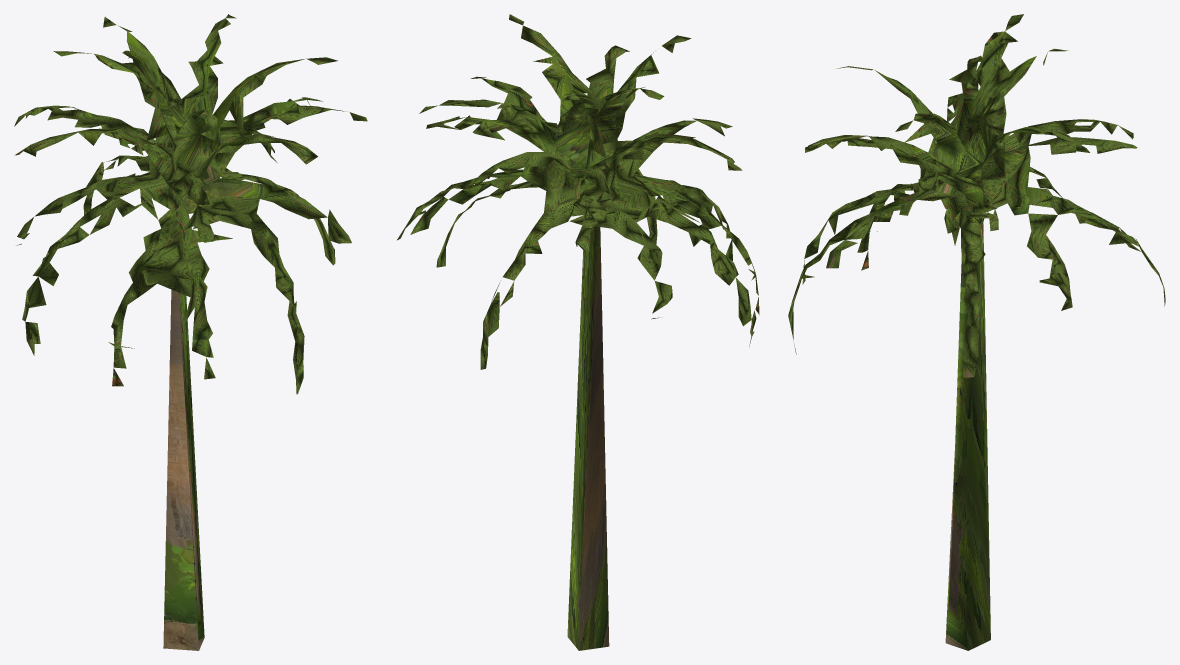
Rendered from palm.glb.
3 renders of one model, left to right at view 1: azimuth 30°, elevation 25°; view 2: azimuth 150°, elevation 25°; view 3: azimuth 270°, elevation 25°, orthographic. The views are drawn at different scales.
Bounding box in the file's own units: 1.1 × 1.99 × 1.17.
1 material, 1 textured.
